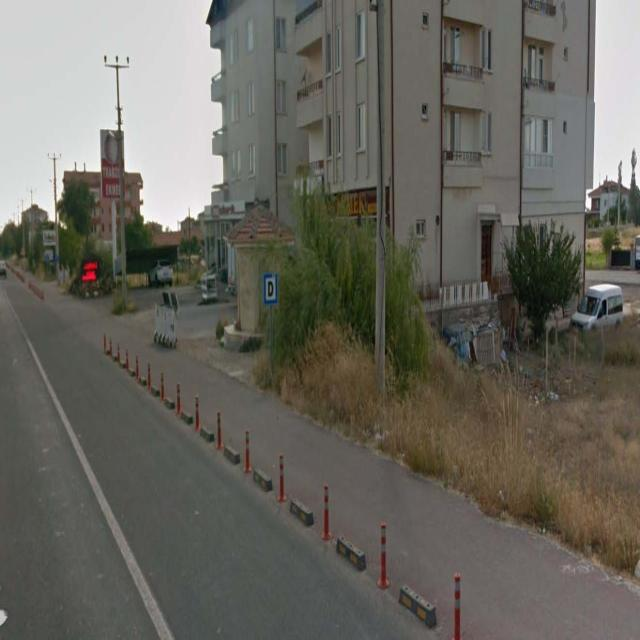durak: (264, 274, 276, 304)
